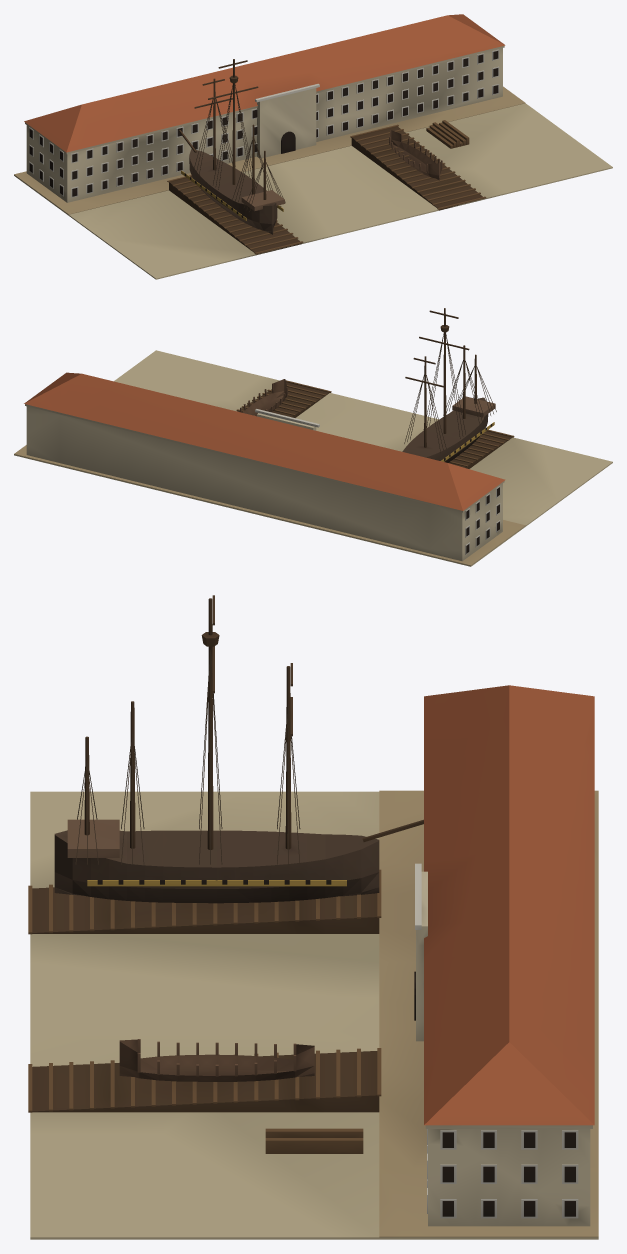
The model's file is ribeira-das-naus-1800.glb.
3 renders of one model, top to bottom at view 1: azimuth 30°, elevation 25°; view 2: azimuth 150°, elevation 25°; view 3: azimuth 270°, elevation 25°, orthographic. The views are drawn at different scales.
Visible parts, largest first — view 1: p1_ships, p0_slipways, p2_yard; view 2: p1_ships, p0_slipways, p2_yard; view 3: p0_slipways, p1_ships, p2_yard.
Part boxes in pixels (bbox=[...]): p1_ships: bbox=[24, 14, 505, 234]; p0_slipways: bbox=[14, 86, 612, 279]; p2_yard: bbox=[389, 120, 469, 180]; p1_ships: bbox=[24, 308, 505, 561]; p0_slipways: bbox=[14, 350, 612, 566]; p2_yard: bbox=[237, 379, 287, 416]; p0_slipways: bbox=[28, 790, 598, 1239]; p1_ships: bbox=[54, 595, 594, 1226]; p2_yard: bbox=[119, 1039, 363, 1153].
Size of the model in its own units: 130 by 42.8 by 70.25.
